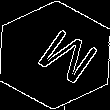M_SW: (18, 21, 92, 89)
